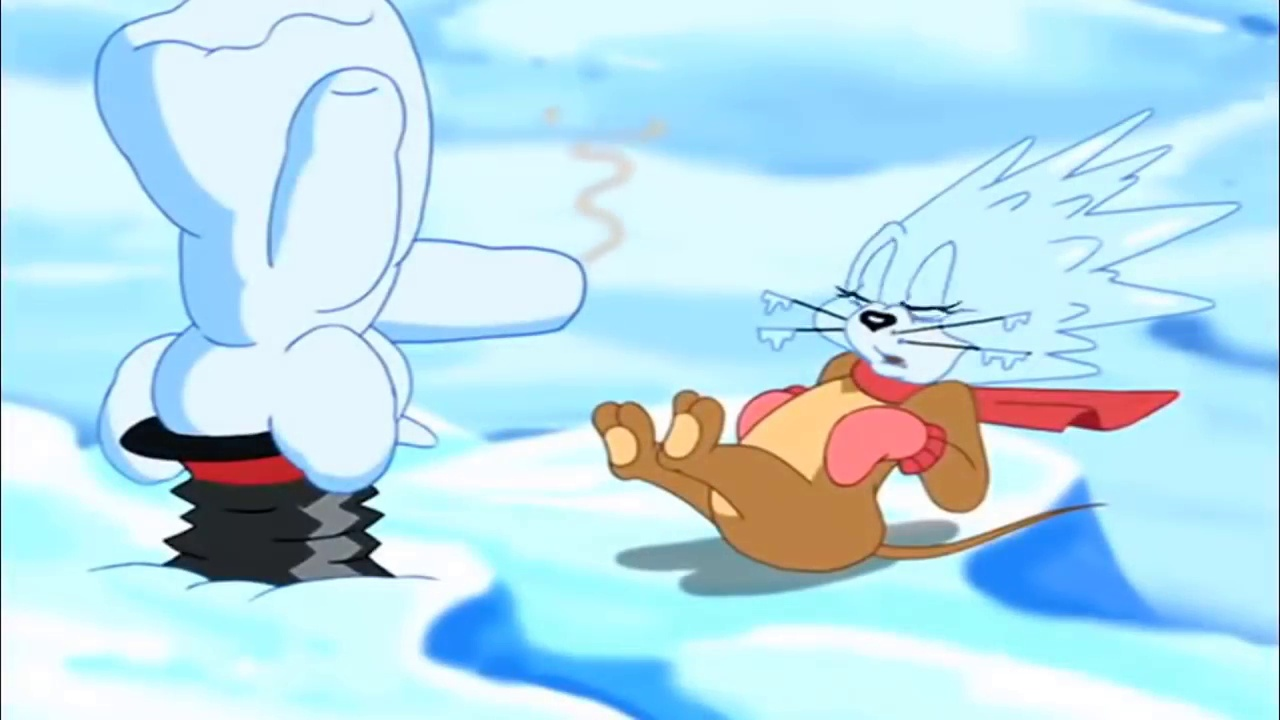face: (839, 230, 992, 385)
